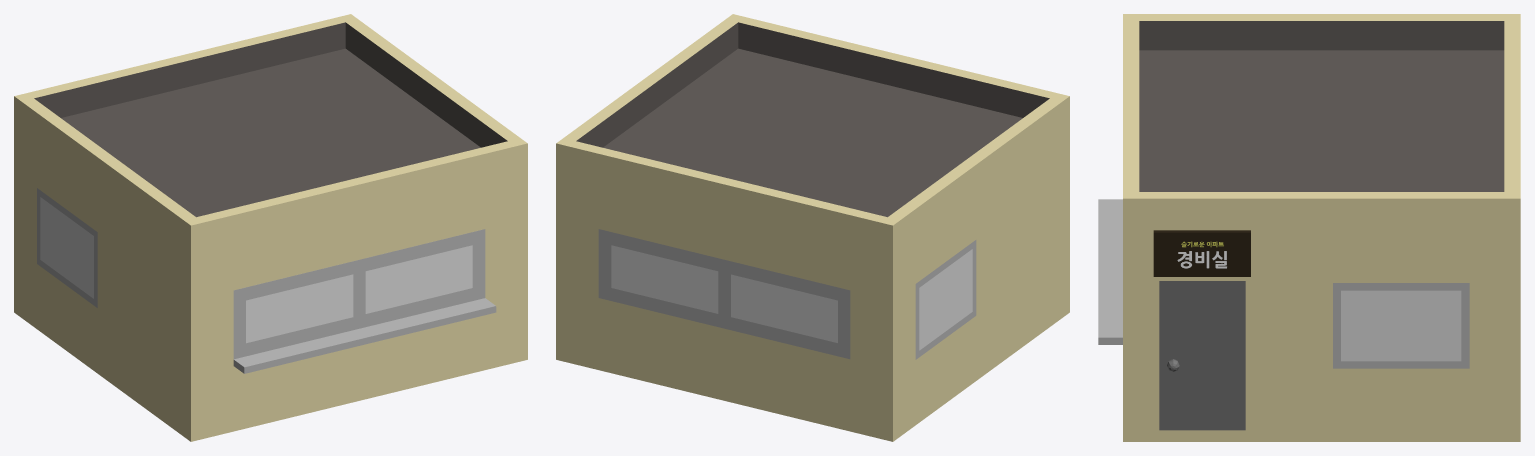
File: security_office.fbx
The picture shows the model from 3 angles, left to right: view 1: azimuth 30°, elevation 25°; view 2: azimuth 150°, elevation 25°; view 3: azimuth 270°, elevation 25°; orthographic projection. The views are drawn at different scales.
Parts seen in each view (by area): view 1: door; view 2: door; view 3: door, sign.
Part boxes in pixels (<box>): door: <box>14,14,527,441</box>; door: <box>556,14,1069,441</box>; door: <box>1098,14,1520,441</box>; sign: <box>1153,230,1250,276</box>.
Size of the model in its own units: 5.57 by 3.3 by 5.19.
7 materials, 1 textured.
